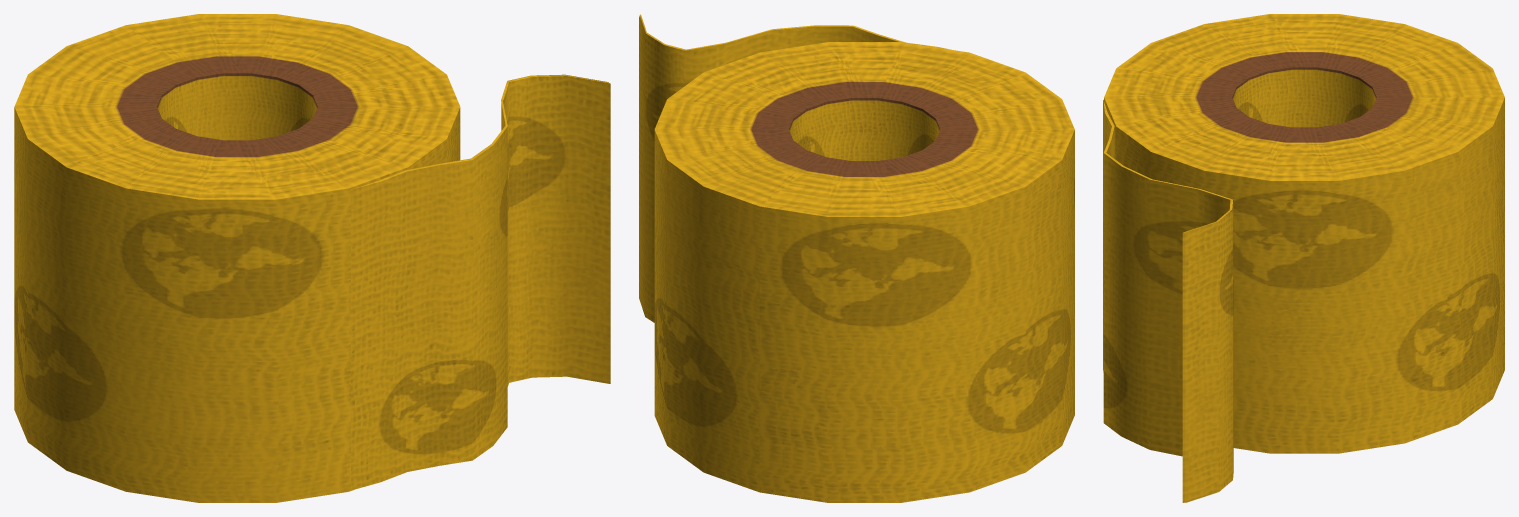
File: tissue.obj
3 views of the same model, side by side, from view 1: azimuth 30°, elevation 25°; view 2: azimuth 150°, elevation 25°; view 3: azimuth 270°, elevation 25° (orthographic). The views are drawn at different scales.
Parts seen in each view (by area): view 1: Plane001; view 2: Plane001; view 3: Plane001.
Part boxes in pixels (x1,y1,x2,y2): Plane001: (14,14,610,502); Plane001: (639,14,1074,502); Plane001: (1103,14,1504,502).
Bounding box in the file's own units: 78.24 × 45.78 × 61.15.
